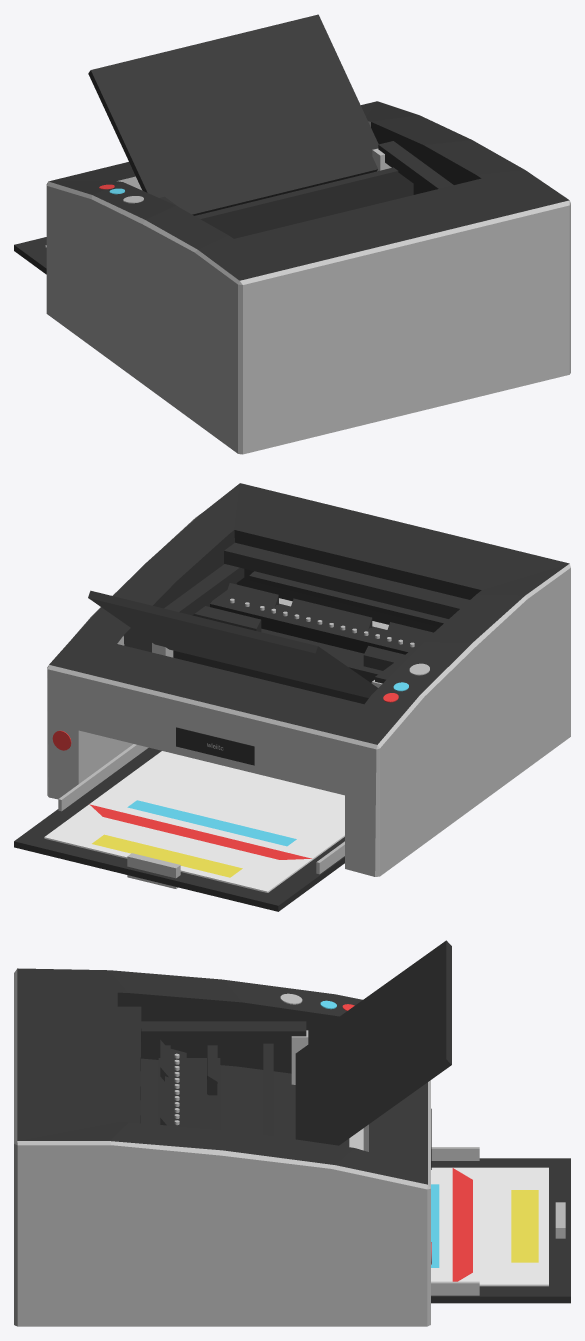
File: Printer.glb
The picture shows the model from 3 angles, top to bottom: view 1: azimuth 30°, elevation 25°; view 2: azimuth 150°, elevation 25°; view 3: azimuth 270°, elevation 25°; orthographic projection. The views are drawn at different scales.
Parts seen in each view (by area): view 1: Box027, Box029, Box031, Box039, Box033; view 2: Box027, Box023, Box029, Box033, Box030, Box026, Box034, Box031, Box039, Box040, Box028, Box044 (+6 smaller); view 3: Box027, Box029, Box023, Box033, Box032, Box030, Box035, Box026, Box031, Box028, Box041, Box038.
Part boxes in pixels (box(x1,y1,x2,y2)): Box027: box(46, 101, 570, 454); Box029: box(88, 14, 378, 215); Box031: box(195, 167, 413, 238); Box039: box(378, 141, 453, 191); Box033: box(14, 237, 46, 274); Box027: box(47, 483, 570, 876); Box023: box(44, 751, 344, 892); Box029: box(88, 590, 377, 697); Box033: box(14, 747, 344, 911); Box030: box(224, 542, 469, 618); Box026: box(210, 594, 420, 654); Box034: box(249, 571, 448, 627); Box031: box(173, 650, 382, 704); Box039: box(164, 564, 244, 615); Box040: box(176, 727, 254, 765); Box028: box(58, 744, 148, 811); Box044: box(289, 598, 372, 629); Box027: box(14, 968, 430, 1326); Box029: box(295, 940, 451, 1145); Box023: box(431, 1167, 548, 1286); Box033: box(431, 1158, 570, 1303); Box032: box(141, 1021, 306, 1045); Box030: box(117, 1006, 141, 1123); Box035: box(158, 1058, 220, 1129); Box026: box(165, 1048, 186, 1126); Box031: box(263, 1043, 273, 1136); Box028: box(431, 1281, 479, 1295); Box041: box(431, 1147, 479, 1160); Box038: box(207, 1045, 217, 1095).
Size of the model in its own units: 31517 by 20302 by 42681.
